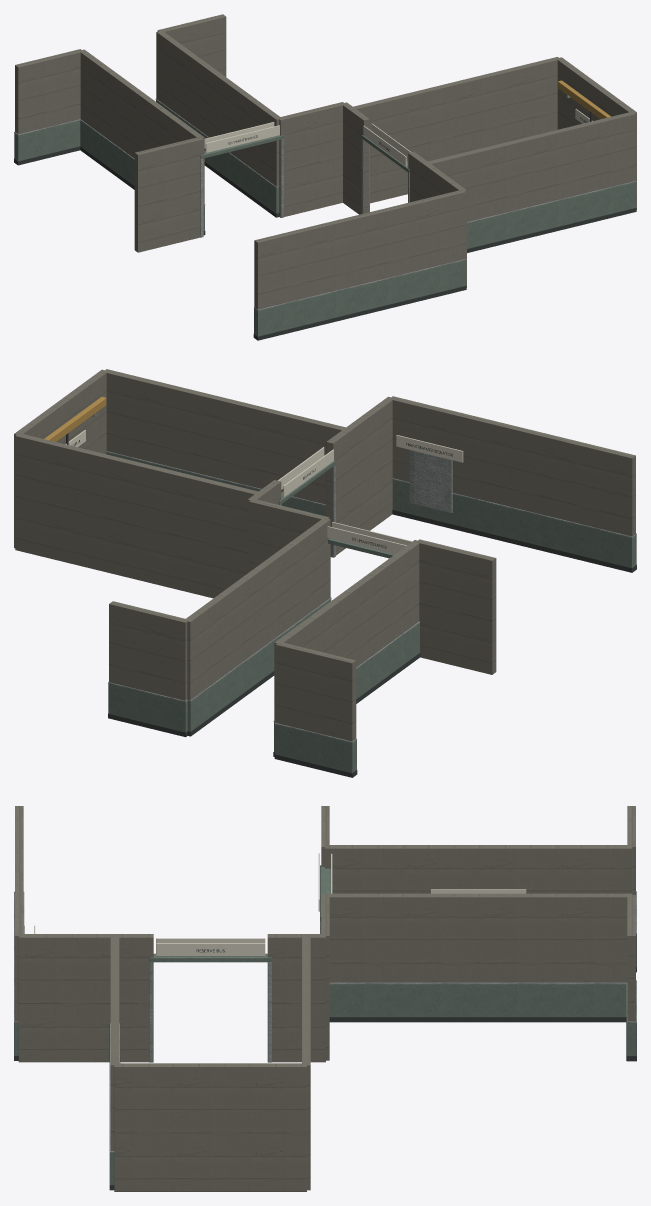
The model's file is power_maintenance.glb.
3 renders of one model, top to bottom at view 1: azimuth 30°, elevation 25°; view 2: azimuth 150°, elevation 25°; view 3: azimuth 270°, elevation 25°, orthographic. The views are drawn at different scales.
Visible parts, largest first — view 1: power_maintenance / power_plaster, power_maintenance / power_sage_enamel, power_maintenance / power_blackened_steel, power_maintenance / power_galvanized, power_maintenance / power_instrument_ivory, power_maintenance / power_isolation_ochre; view 2: power_maintenance / power_plaster, power_maintenance / power_sage_enamel, power_maintenance / power_galvanized, power_maintenance / power_instrument_ivory, power_maintenance / power_blackened_steel, power_maintenance / power_isolation_ochre; view 3: power_maintenance / power_plaster, power_maintenance / power_sage_enamel, power_maintenance / power_instrument_ivory, power_maintenance / power_galvanized, power_maintenance / power_blackened_steel.
Boxes of the visible parts, bbox=[...] form: power_maintenance / power_plaster: bbox=[15, 14, 636, 309]; power_maintenance / power_sage_enamel: bbox=[14, 100, 636, 336]; power_maintenance / power_blackened_steel: bbox=[14, 111, 636, 340]; power_maintenance / power_galvanized: bbox=[14, 94, 636, 310]; power_maintenance / power_instrument_ivory: bbox=[204, 109, 592, 166]; power_maintenance / power_isolation_ochre: bbox=[558, 80, 610, 118]; power_maintenance / power_plaster: bbox=[14, 369, 635, 741]; power_maintenance / power_sage_enamel: bbox=[106, 452, 636, 772]; power_maintenance / power_galvanized: bbox=[92, 413, 636, 742]; power_maintenance / power_instrument_ivory: bbox=[65, 430, 463, 554]; power_maintenance / power_blackened_steel: bbox=[66, 433, 636, 777]; power_maintenance / power_isolation_ochre: bbox=[44, 397, 106, 441]; power_maintenance / power_plaster: bbox=[15, 806, 635, 1191]; power_maintenance / power_sage_enamel: bbox=[14, 865, 636, 1184]; power_maintenance / power_instrument_ivory: bbox=[34, 853, 526, 956]; power_maintenance / power_galvanized: bbox=[14, 891, 636, 1152]; power_maintenance / power_blackened_steel: bbox=[14, 926, 636, 1190].
Bounding box in the file's own units: 16.15 × 3.6 × 16.28.
Materials: 6 (3 with a texture image).
